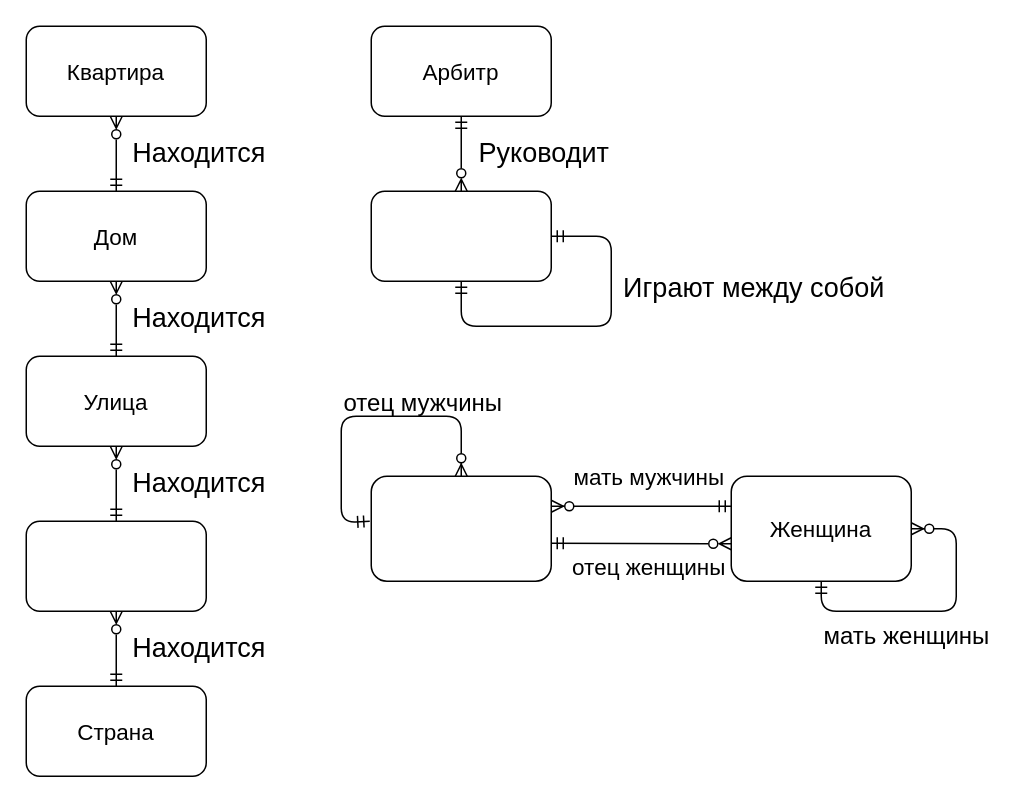
This 1028x803 diagram has some shape labels left out. The shapes that lost their labels are listed below. From the top down, each one's centre as x and y in pixels, then its label:
point (460, 235): Команда
point (460, 528): Мужчина
point (115, 565): Город
